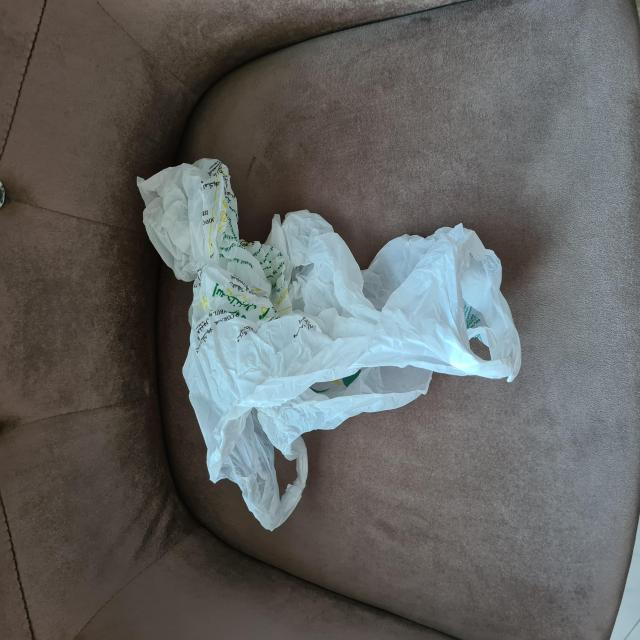plastic bag: (131, 153, 524, 532)
